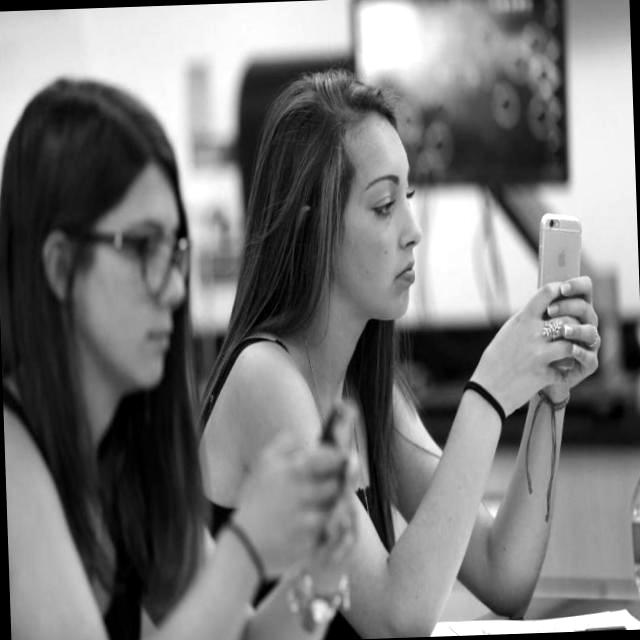phone: (534, 210, 586, 372), (313, 400, 360, 542)
